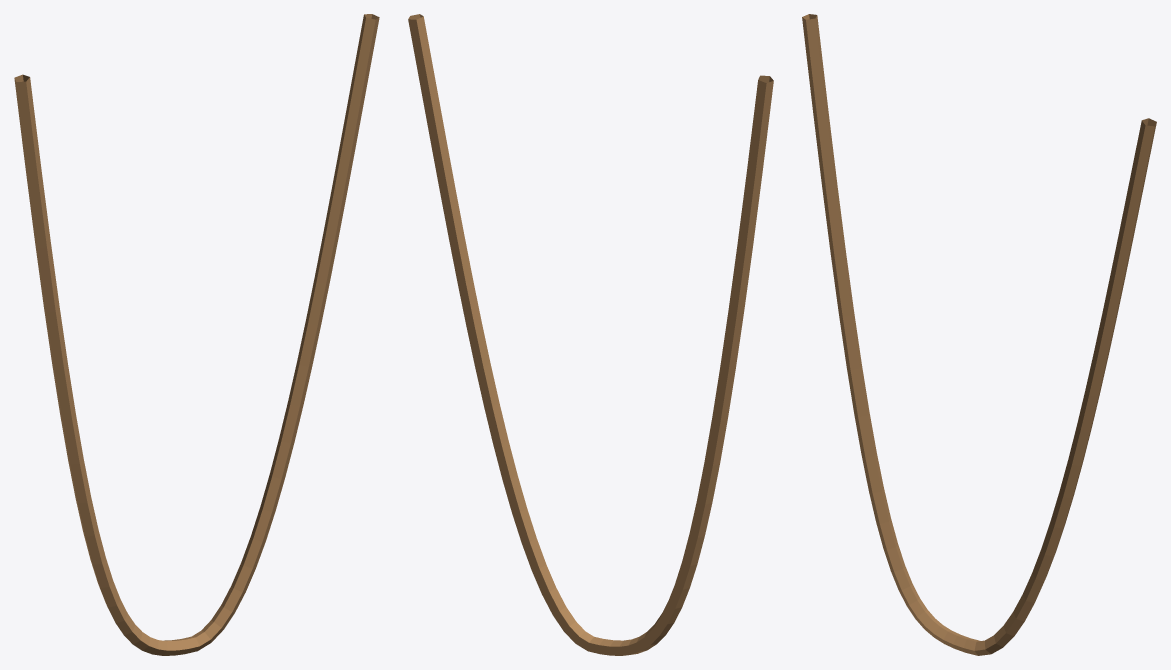
File: String_002.fbx
The picture shows the model from 3 angles, left to right: view 1: azimuth 30°, elevation 25°; view 2: azimuth 150°, elevation 25°; view 3: azimuth 330°, elevation 25°; orthographic projection. The views are drawn at different scales.
Parts seen in each view (by area): view 1: String_002; view 2: String_002; view 3: String_002.
Part boxes in pixels (x1,y1,x2,y2): String_002: (14, 14, 379, 655); String_002: (408, 14, 773, 655); String_002: (802, 14, 1156, 655).
Size of the model in its own units: 1.14 by 1.85 by 0.0413.
